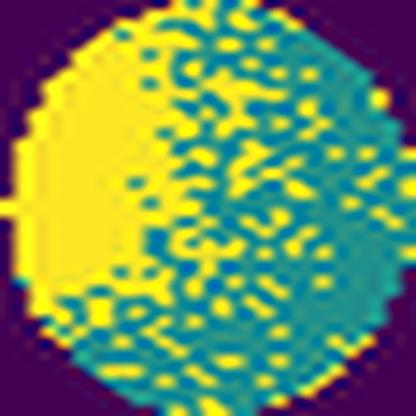Edge-Loc: (0, 0, 213, 346)
